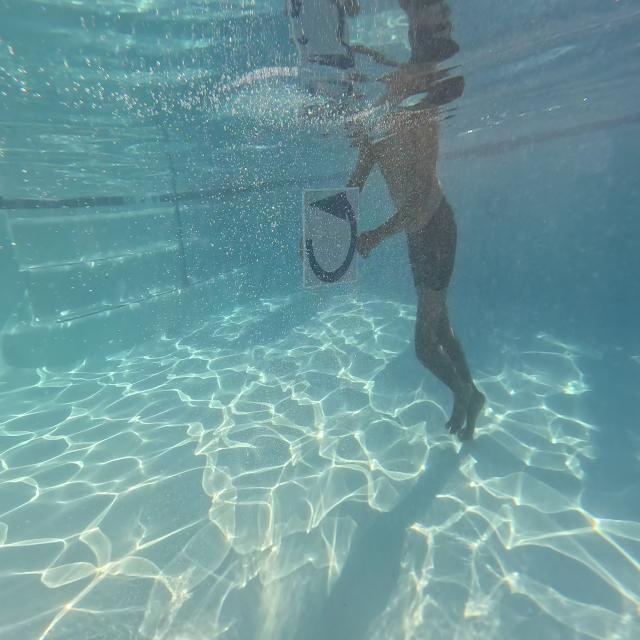blue_side: (294, 172, 365, 302)
